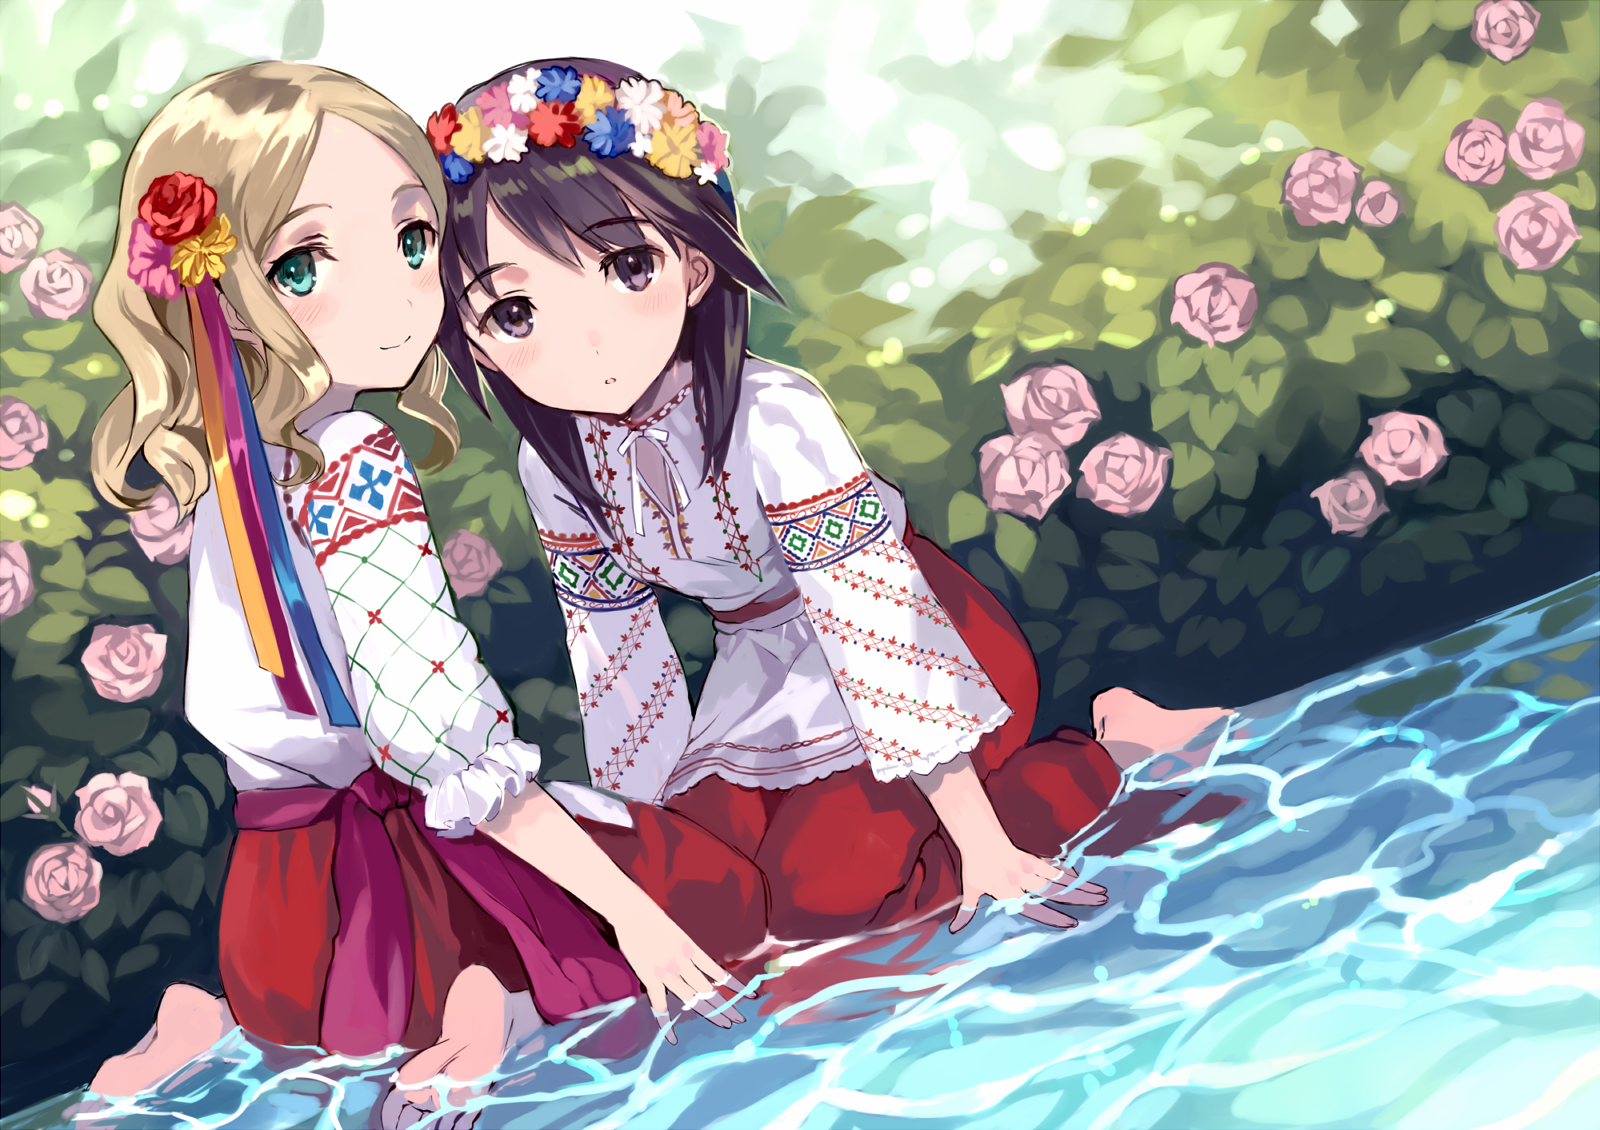纸片人正脸: (135, 51, 472, 394), (415, 86, 755, 420)
